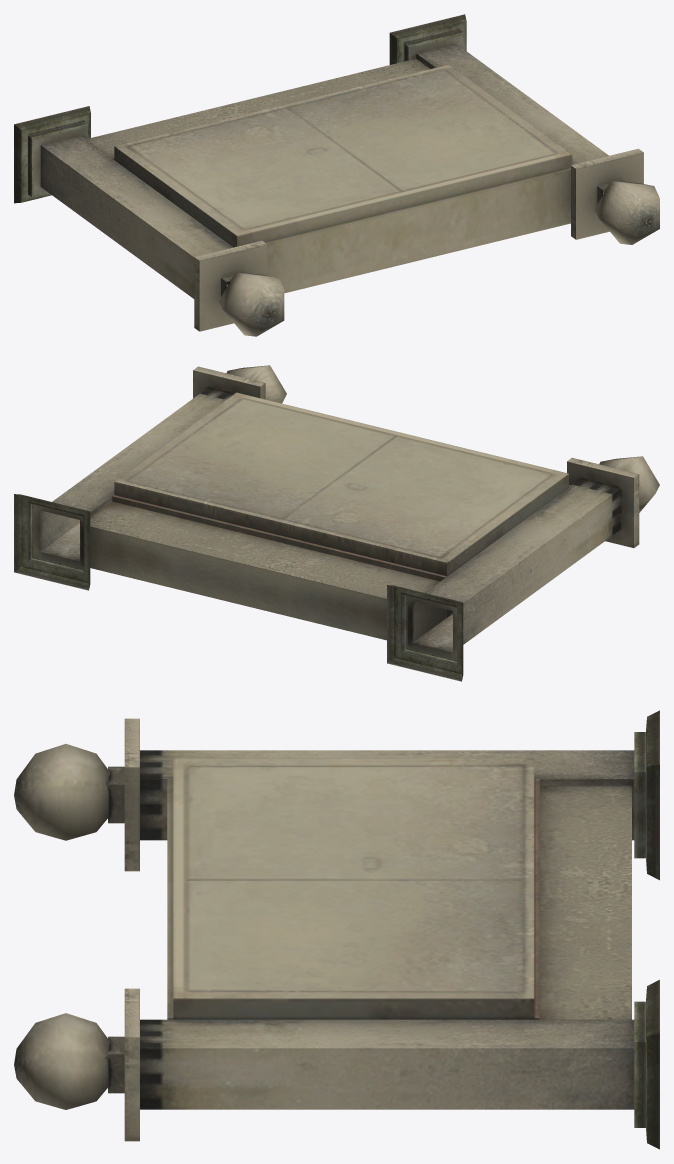
File: mp_nuked_townsign_LOD1.obj
The picture shows the model from 3 angles, top to bottom: view 1: azimuth 30°, elevation 25°; view 2: azimuth 150°, elevation 25°; view 3: azimuth 270°, elevation 25°; orthographic projection. The views are drawn at different scales.
Visible parts, largest first — view 1: mtl_mp_nuked_townsign; view 2: mtl_mp_nuked_townsign; view 3: mtl_mp_nuked_townsign.
Part boxes in pixels (x1,y1,x2,y2): mtl_mp_nuked_townsign: (14, 14, 659, 336); mtl_mp_nuked_townsign: (14, 365, 659, 681); mtl_mp_nuked_townsign: (14, 710, 659, 1149).
Size of the model in its own units: 390 by 65.22 by 329.
